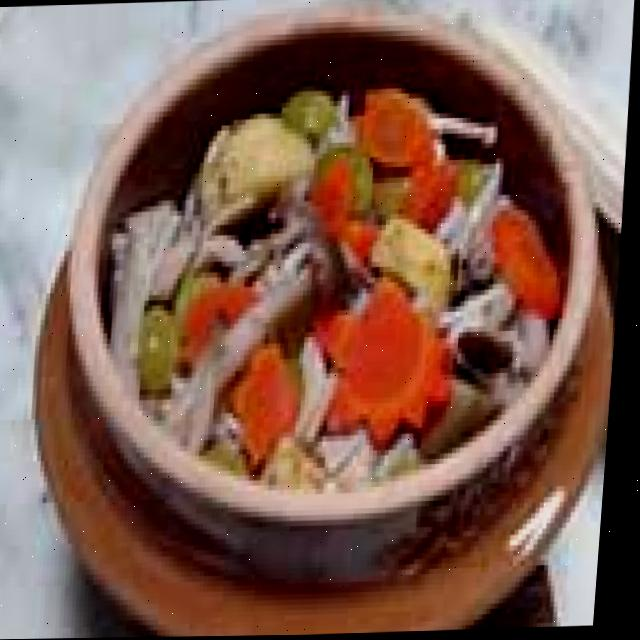寿司卷物: (9, 0, 640, 639)
